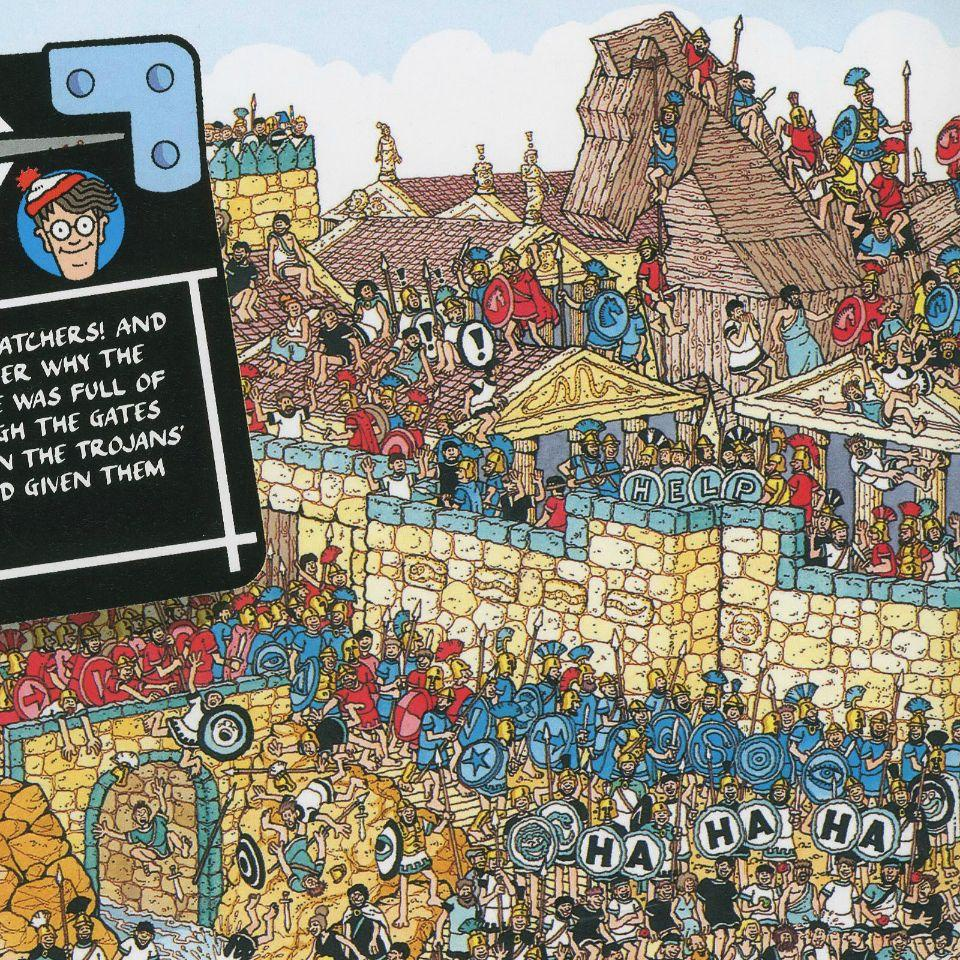waldo: (14, 165, 118, 281)
